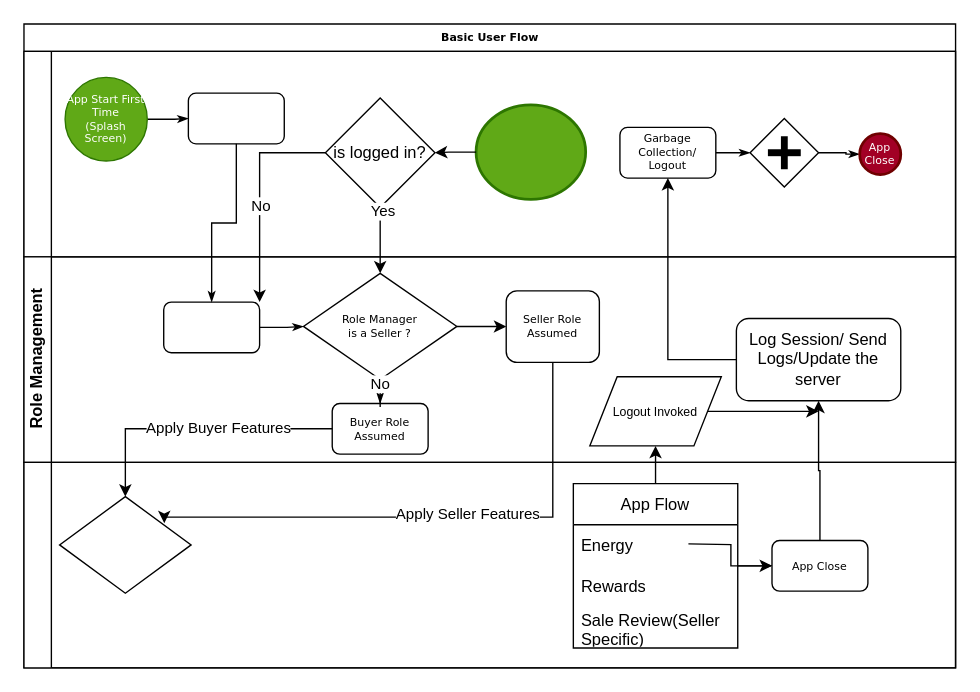
Image size: 980x692. Some labels were removed from this diagram. Here are the shapes that lost their labels. From the top down, the box of each, then its label:
(187, 92, 284, 144): Customer Onboarding and Landing Flow
(23, 50, 956, 257): App Boot Stage
(474, 103, 586, 200): App Start Generic (Splash Screen)
(162, 301, 260, 353): Login/Signup
(58, 495, 191, 593): Apply Features
(23, 461, 956, 668): Application Flow
